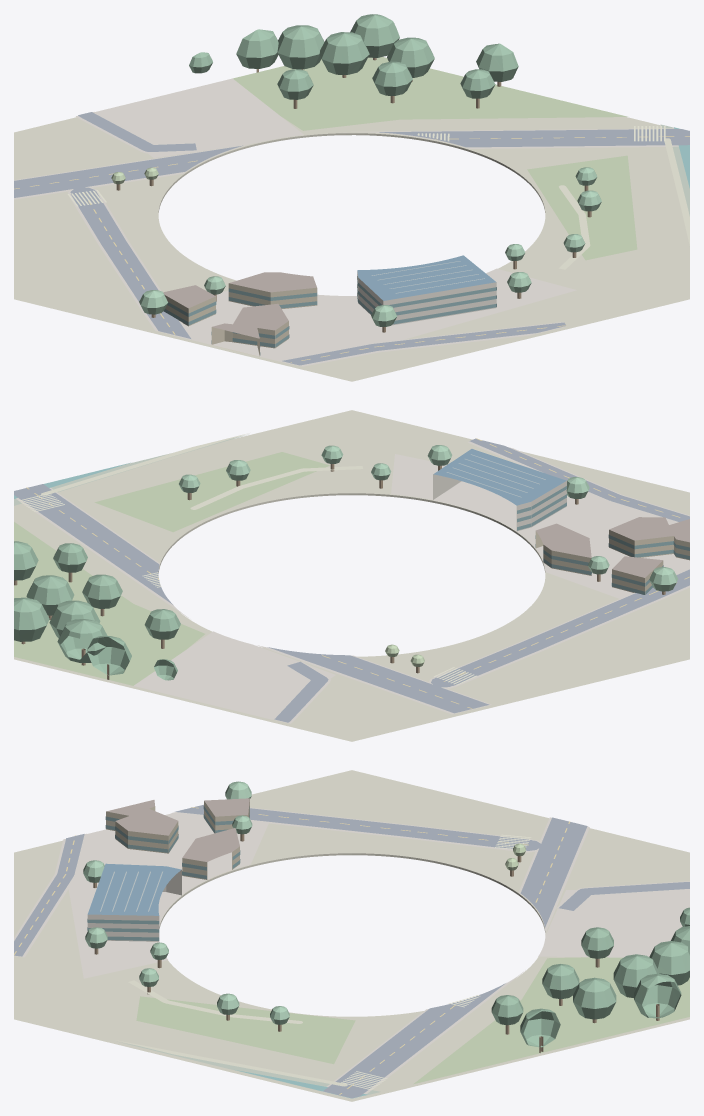
File: surround-P08.glb
The picture shows the model from 3 angles, top to bottom: view 1: azimuth 30°, elevation 25°; view 2: azimuth 150°, elevation 25°; view 3: azimuth 270°, elevation 25°; orthographic projection.
Parts seen in each view (by area): view 1: P08_ground; view 2: P08_ground; view 3: P08_ground.
Part boxes in pixels (x1,y1,x2,y2): P08_ground: [14, 14, 689, 381]; P08_ground: [14, 410, 689, 741]; P08_ground: [14, 770, 689, 1101].
Bounding box in the file's own units: 16.16 × 1.08 × 14.
1 material, 1 textured.
